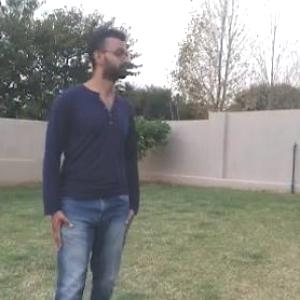follow: (38, 27, 141, 299)
